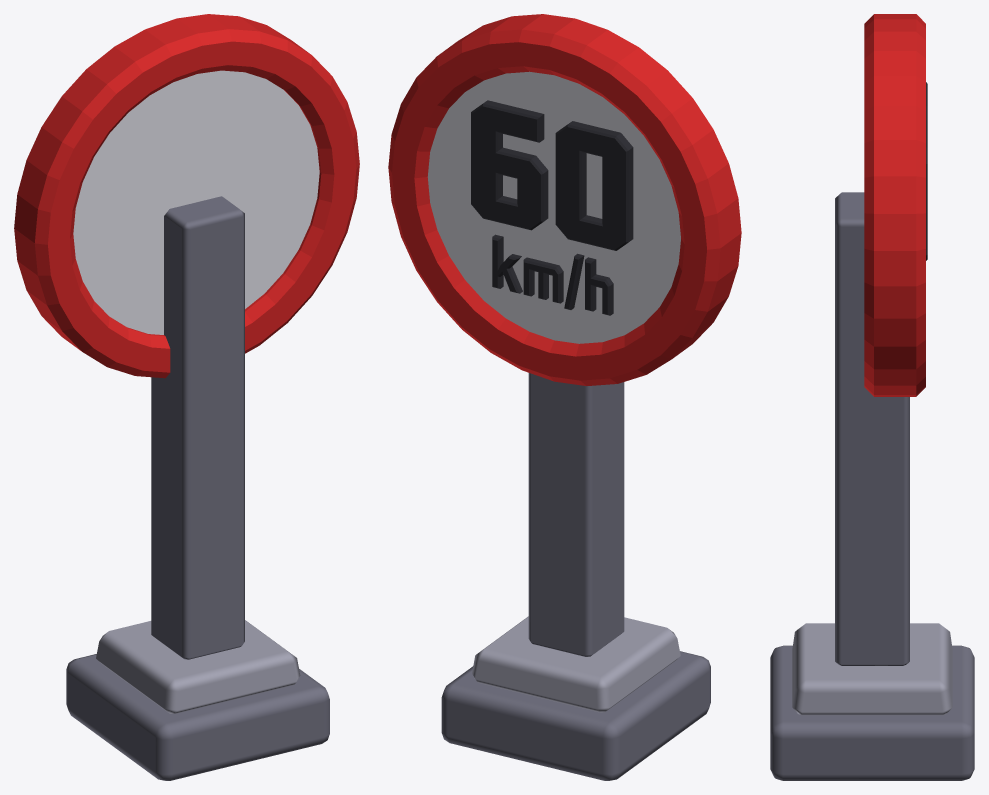
File: SpeedSign.glb
3 renders of one model, left to right at view 1: azimuth 30°, elevation 25°; view 2: azimuth 150°, elevation 25°; view 3: azimuth 270°, elevation 25°, orthographic. The views are drawn at different scales.
Parts seen in each view (by area): view 1: M_SpeedSign_Metal, M_SpeedSign_ToyRed, M_SpeedSign_PlaneBody, M_SpeedSign_Steel; view 2: M_SpeedSign_ToyRed, M_SpeedSign_Metal, M_SpeedSign_PlaneBody, M_SpeedSign_Tire, M_SpeedSign_Steel; view 3: M_SpeedSign_Metal, M_SpeedSign_ToyRed, M_SpeedSign_Steel.
Boxes of the visible parts, box(x1,y1,x2,y2) form: M_SpeedSign_Metal: box(66, 196, 329, 780); M_SpeedSign_ToyRed: box(14, 14, 359, 378); M_SpeedSign_PlaneBody: box(73, 70, 319, 334); M_SpeedSign_Steel: box(96, 620, 300, 713); M_SpeedSign_ToyRed: box(388, 14, 741, 385); M_SpeedSign_Metal: box(441, 373, 710, 780); M_SpeedSign_PlaneBody: box(427, 71, 680, 343); M_SpeedSign_Tire: box(471, 100, 633, 315); M_SpeedSign_Steel: box(472, 616, 680, 712); M_SpeedSign_Metal: box(770, 192, 974, 780); M_SpeedSign_ToyRed: box(864, 14, 925, 396); M_SpeedSign_Steel: box(792, 623, 952, 715).
Bounding box in the file's own units: 2.36 × 4.83 × 1.26.
